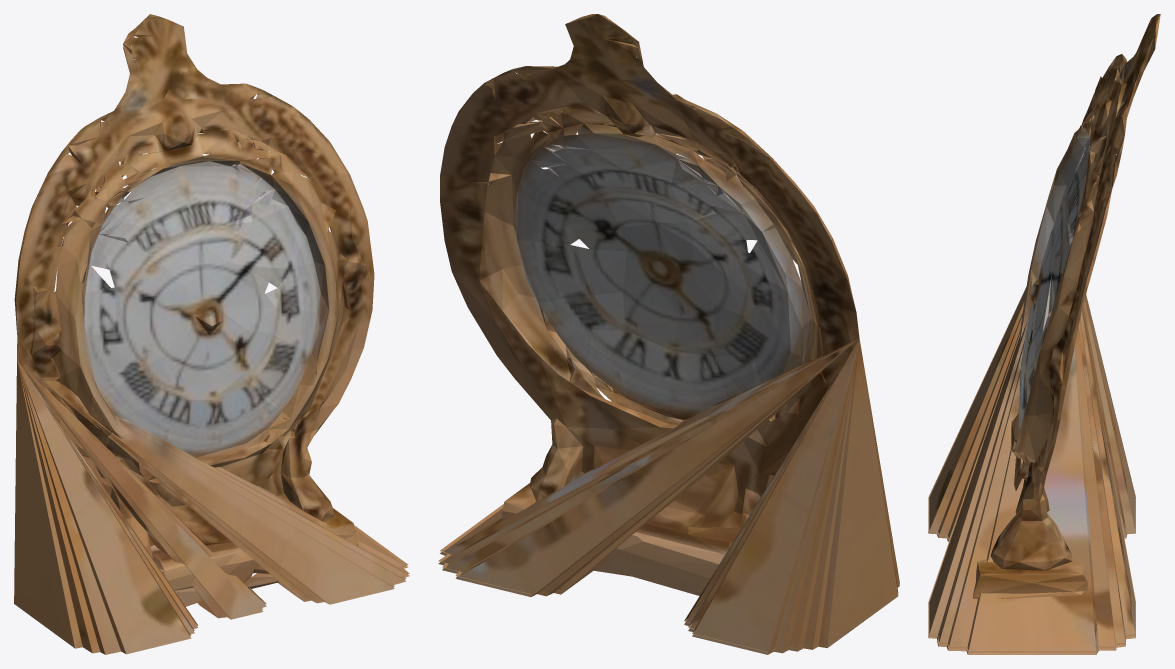
File: clock_face.glb
The picture shows the model from 3 angles, left to right: view 1: azimuth 30°, elevation 25°; view 2: azimuth 150°, elevation 25°; view 3: azimuth 270°, elevation 25°; orthographic projection. The views are drawn at different scales.
Visible parts, largest first — view 1: textured_mesh.obj; view 2: textured_mesh.obj; view 3: textured_mesh.obj.
Boxes of the visible parts, x1,y1,x2,y2 form: textured_mesh.obj: [14, 14, 409, 654]; textured_mesh.obj: [438, 14, 899, 654]; textured_mesh.obj: [928, 14, 1160, 654].
Bounding box in the file's own units: 1.55 × 2.2 × 0.8339.
1 material, 1 textured.
